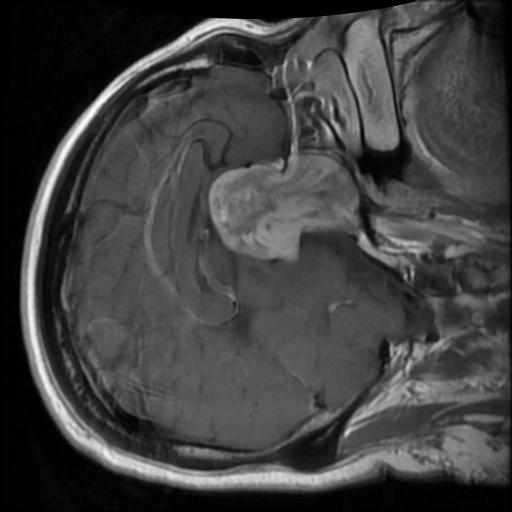pituitary tumour: (208, 156, 357, 264)
